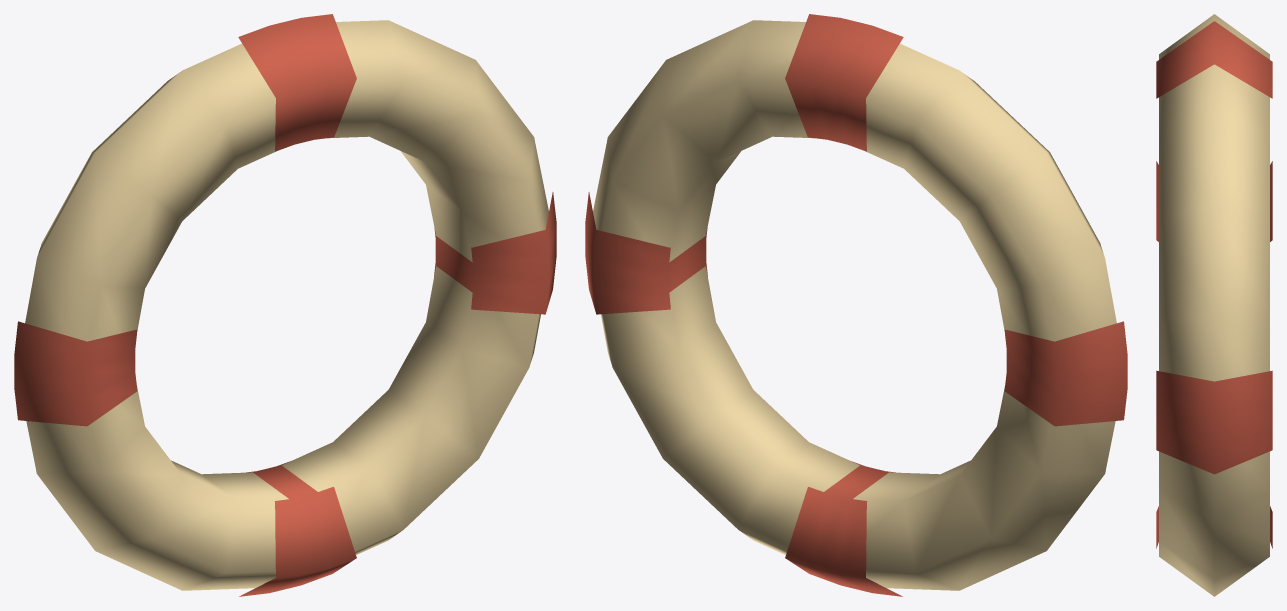
File: life-ring.glb
3 renders of one model, left to right at view 1: azimuth 30°, elevation 25°; view 2: azimuth 150°, elevation 25°; view 3: azimuth 270°, elevation 25°, orthographic. The views are drawn at different scales.
Parts seen in each view (by area): view 1: float-ring, coral-band-2, coral-band-1, coral-band-3, coral-band-0; view 2: float-ring, coral-band-2, coral-band-1, coral-band-3, coral-band-0; view 3: float-ring, coral-band-0, coral-band-1, coral-band-2, coral-band-3.
Boxes of the visible parts, x1,y1,x2,y2 form: float-ring: [25, 20, 548, 590]; coral-band-2: [14, 321, 137, 426]; coral-band-1: [238, 14, 356, 151]; coral-band-3: [239, 461, 356, 596]; coral-band-0: [434, 192, 556, 314]; float-ring: [593, 20, 1116, 590]; coral-band-2: [1004, 321, 1127, 426]; coral-band-1: [785, 14, 903, 151]; coral-band-3: [785, 461, 902, 596]; coral-band-0: [585, 192, 707, 314]; float-ring: [1159, 14, 1269, 596]; coral-band-0: [1156, 370, 1272, 474]; coral-band-1: [1156, 21, 1272, 98]; coral-band-2: [1156, 161, 1272, 241]; coral-band-3: [1156, 506, 1272, 548].
Size of the model in its own units: 0.8565 by 0.8565 by 0.1693.
